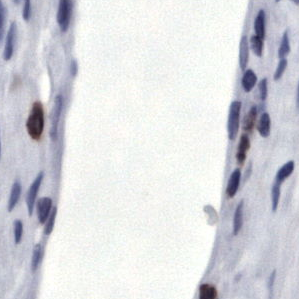Lymphocyte: (24, 101, 46, 140)
